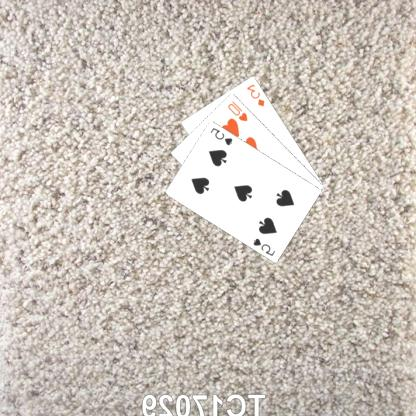10H: (226, 98, 250, 123)
3D: (246, 81, 268, 108)
5S: (209, 124, 236, 146), (252, 236, 278, 257)
